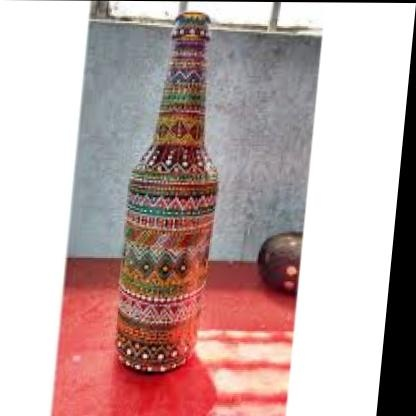trash: (116, 12, 217, 371), (258, 232, 301, 291)
